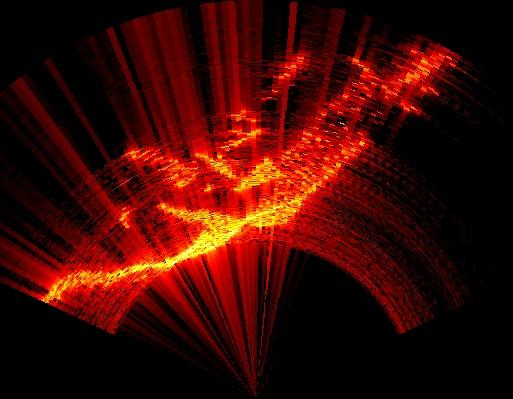shipwreck: (45, 125, 366, 299), (130, 151, 198, 188)
